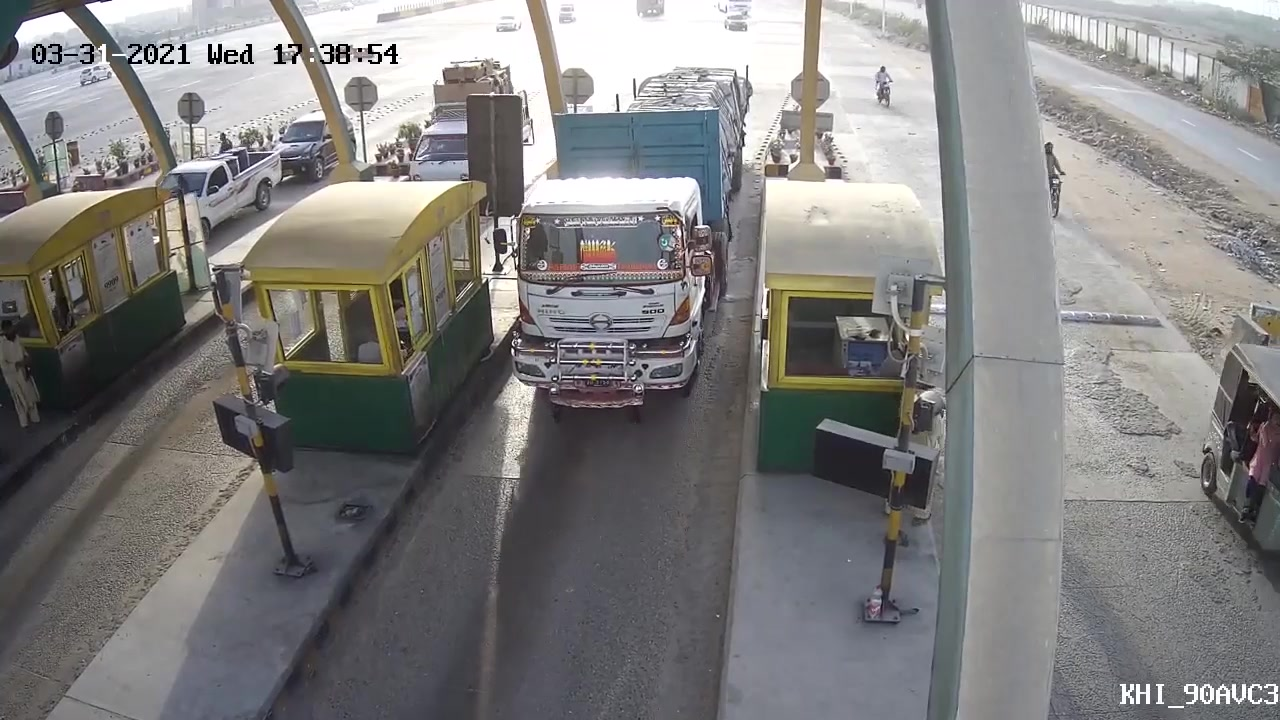F6: (499, 59, 751, 431)
